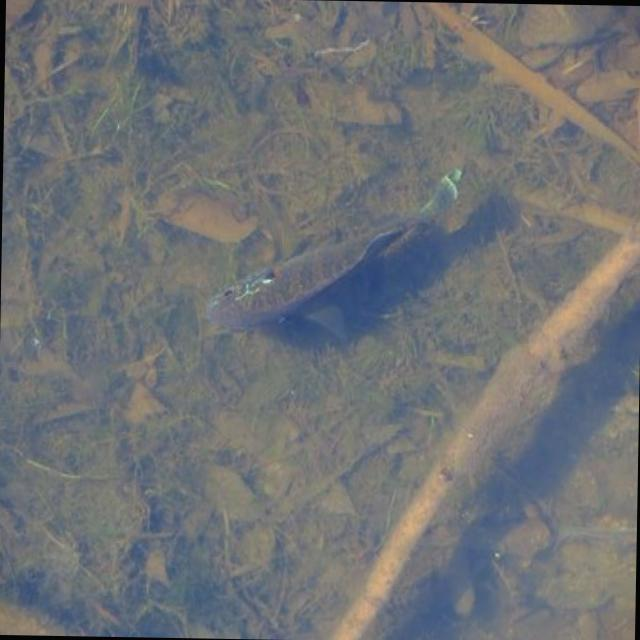Gunes Levregi: (201, 153, 478, 336)
